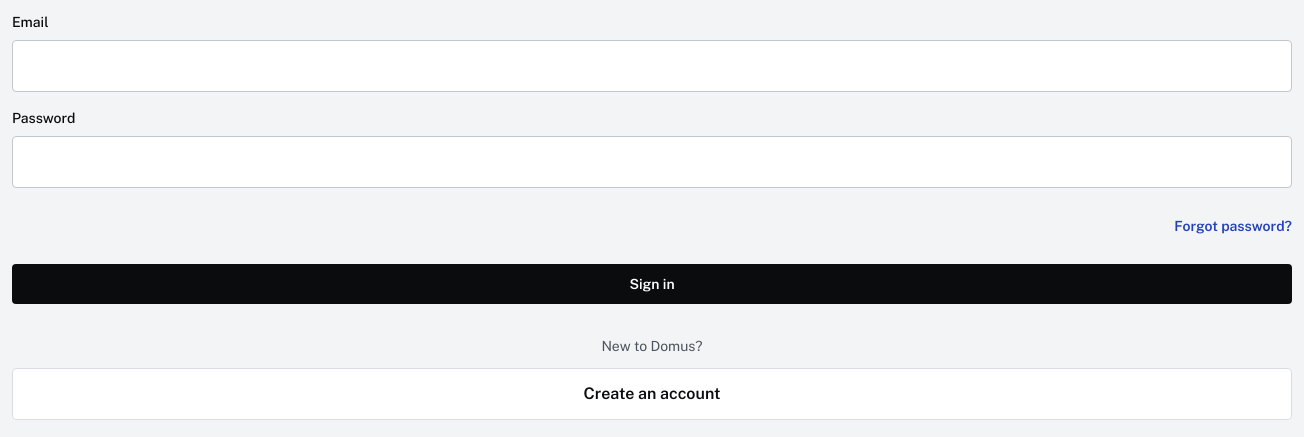
SignInForm › 8.1d opens the existing forgot flow
The image size is (1304, 437).
Click the button "Forgot password?": (1233, 226) [1174,204,1292,248]
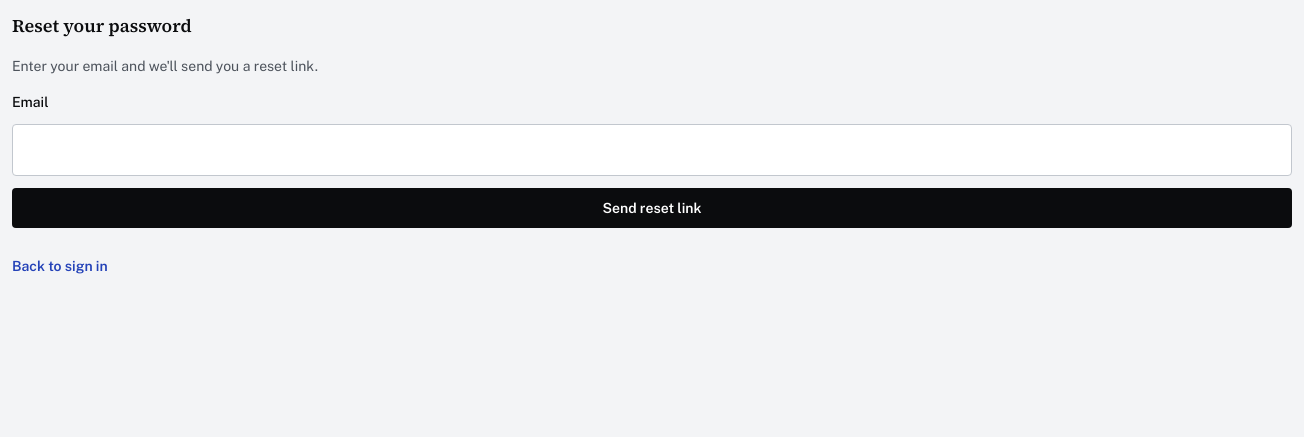
expect the heading "Reset your password" is shown: met, box [12,13,192,38]
expect the button "Send reset link" is shown: met, box [12,188,1292,228]
